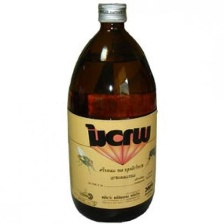insecticide: (64, 0, 160, 224)
